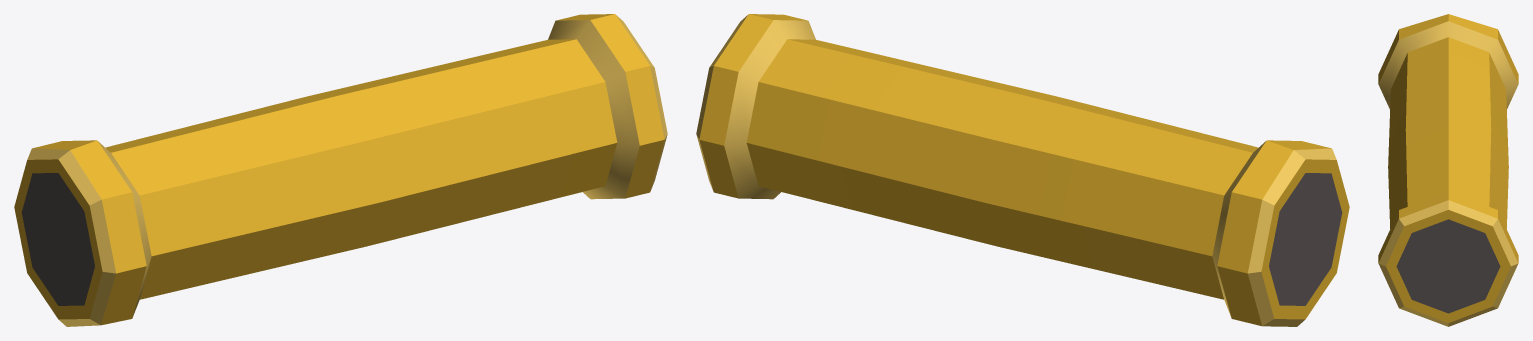
Rendered from SR_Pipe_02.fbx.
3 renders of one model, left to right at view 1: azimuth 30°, elevation 25°; view 2: azimuth 150°, elevation 25°; view 3: azimuth 270°, elevation 25°, orthographic. The views are drawn at different scales.
Parts seen in each view (by area): view 1: SR_Pipe_02; view 2: SR_Pipe_02; view 3: SR_Pipe_02.
Boxes of the visible parts, <box> form: SR_Pipe_02: <box>14,14,667,326</box>; SR_Pipe_02: <box>696,14,1349,326</box>; SR_Pipe_02: <box>1378,14,1518,326</box>.
Bounding box in the file's own units: 399 × 121 × 121.
